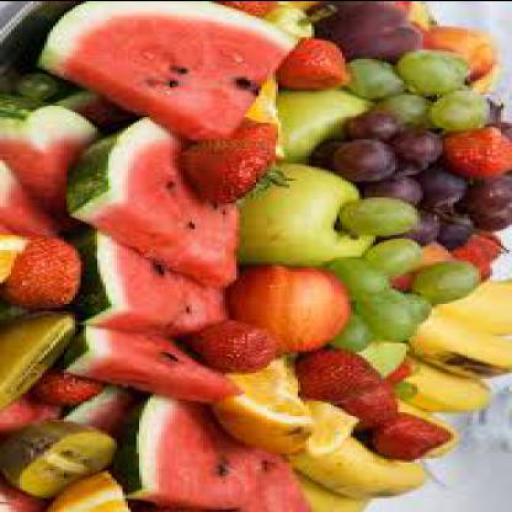biodegradable: (42, 2, 300, 142), (67, 103, 242, 287), (127, 392, 315, 510), (67, 223, 222, 336), (245, 166, 378, 275), (61, 327, 242, 398), (220, 344, 314, 460), (234, 267, 353, 356), (178, 121, 284, 210), (3, 310, 86, 415), (3, 106, 75, 226), (6, 422, 120, 495), (301, 436, 431, 497), (262, 90, 368, 164), (404, 315, 510, 377), (389, 354, 498, 412), (328, 2, 429, 62), (6, 238, 75, 306), (3, 157, 59, 236), (371, 416, 459, 464), (303, 353, 384, 405), (444, 123, 511, 182), (426, 26, 501, 77), (198, 322, 272, 373), (292, 463, 369, 511), (49, 469, 134, 511), (342, 379, 404, 433), (453, 278, 511, 335), (320, 256, 393, 298), (406, 50, 473, 95), (337, 200, 420, 236), (3, 392, 70, 436), (284, 45, 350, 89), (356, 291, 414, 340), (62, 89, 128, 131), (415, 260, 481, 302), (368, 174, 432, 211), (342, 140, 395, 184), (462, 172, 509, 221), (348, 60, 409, 95), (434, 96, 493, 132), (376, 240, 423, 282), (372, 96, 432, 128), (398, 130, 443, 170), (417, 168, 462, 206), (270, 5, 320, 39), (453, 238, 493, 280), (396, 211, 442, 243), (437, 211, 476, 248), (2, 480, 48, 511), (472, 202, 510, 232), (354, 114, 400, 138), (16, 74, 58, 96), (340, 327, 373, 354), (231, 3, 275, 22), (474, 233, 506, 258), (409, 297, 434, 326)
